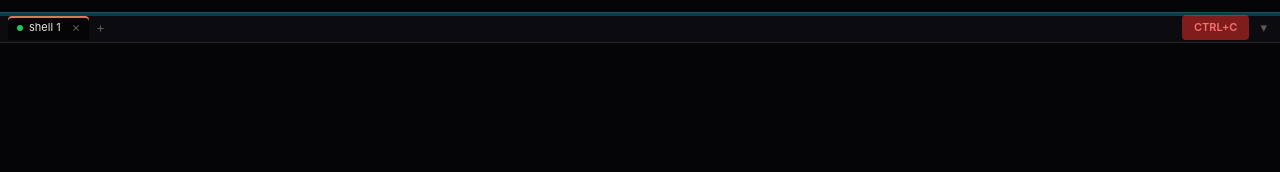
TerminalDock › renames, interrupts and reports errors
Press F2 in the tab "shell 1 ×", box [8,16,89,40]
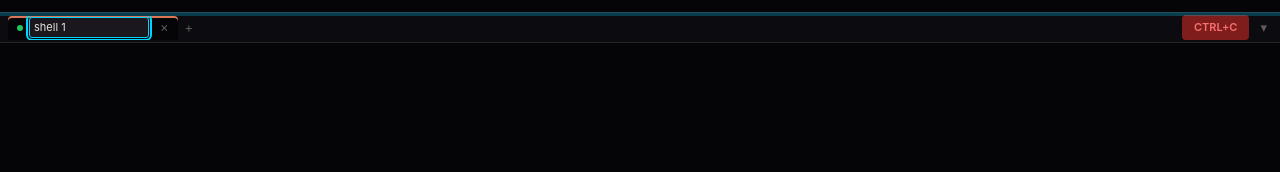
Replace the text in the field named "Session name" with "builds". click: (89, 28)
box: [29,17,149,38]
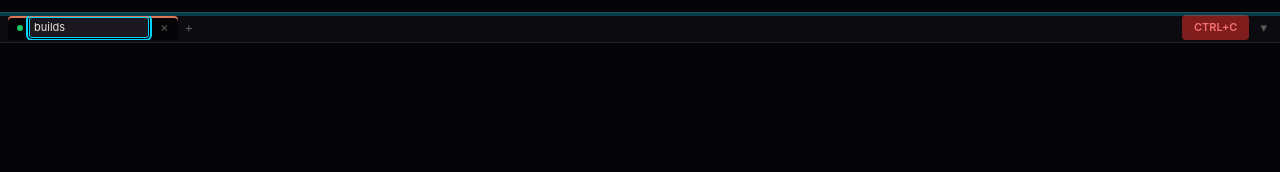
Press Enter in the field named "Session name", box [29,17,149,38]
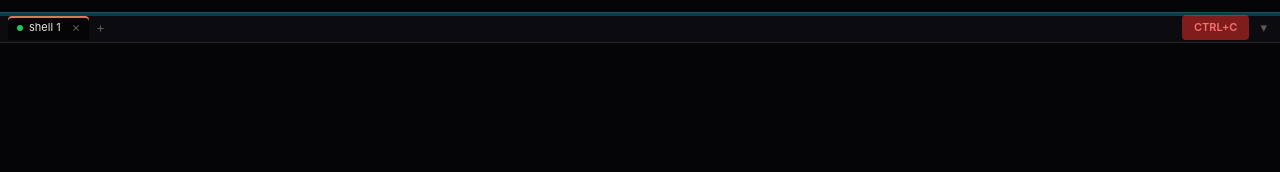
Click the button "Ctrl+C". click: (1216, 28)
box: [1182,15,1250,40]
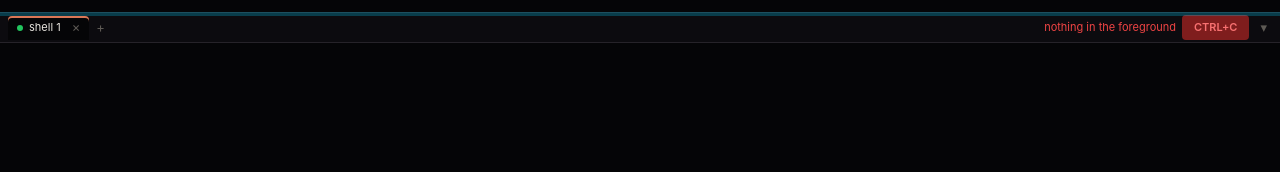
expect the message reads "nothing in the foreground": met, box [1044,20,1176,34]
